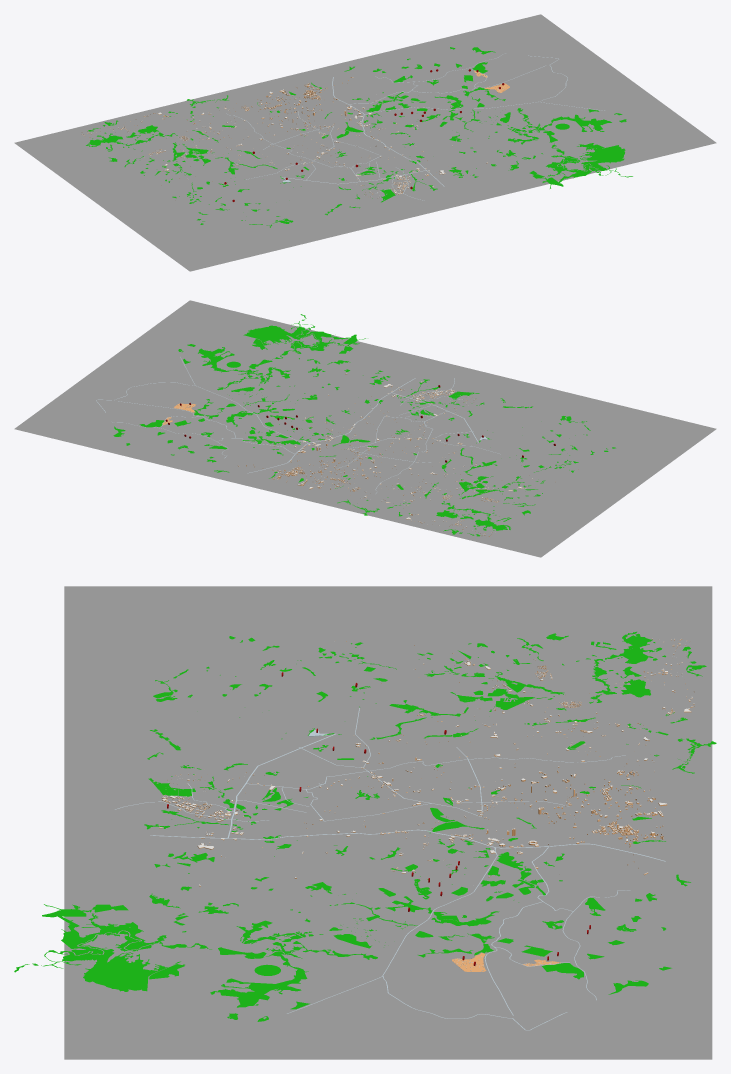
Rendered from map17.glb.
3 renders of one model, top to bottom at view 1: azimuth 30°, elevation 25°; view 2: azimuth 150°, elevation 25°; view 3: azimuth 270°, elevation 25°, orthographic. The views are drawn at different scales.
Parts seen in each view (by area): view 1: Chao, Vegetacao, Predios, Ruas_principais; view 2: Chao, Vegetacao, Predios, Ruas_principais; view 3: Chao, Vegetacao, Predios, Ruas_principais.
Boxes of the visible parts, <box> form: Chao: <box>14,14,716,271</box>; Vegetacao: <box>86,47,632,227</box>; Predios: <box>82,77,487,197</box>; Ruas_principais: <box>226,53,604,200</box>; Chao: <box>14,300,716,557</box>; Vegetacao: <box>113,314,615,536</box>; Predios: <box>238,373,578,536</box>; Ruas_principais: <box>96,357,500,493</box>; Chao: <box>64,586,712,1059</box>; Vegetacao: <box>14,631,716,1021</box>; Predios: <box>159,638,694,886</box>; Ruas_principais: <box>115,708,665,1030</box>.
Bounding box in the file's own units: 1123 × 7.87 × 705.
